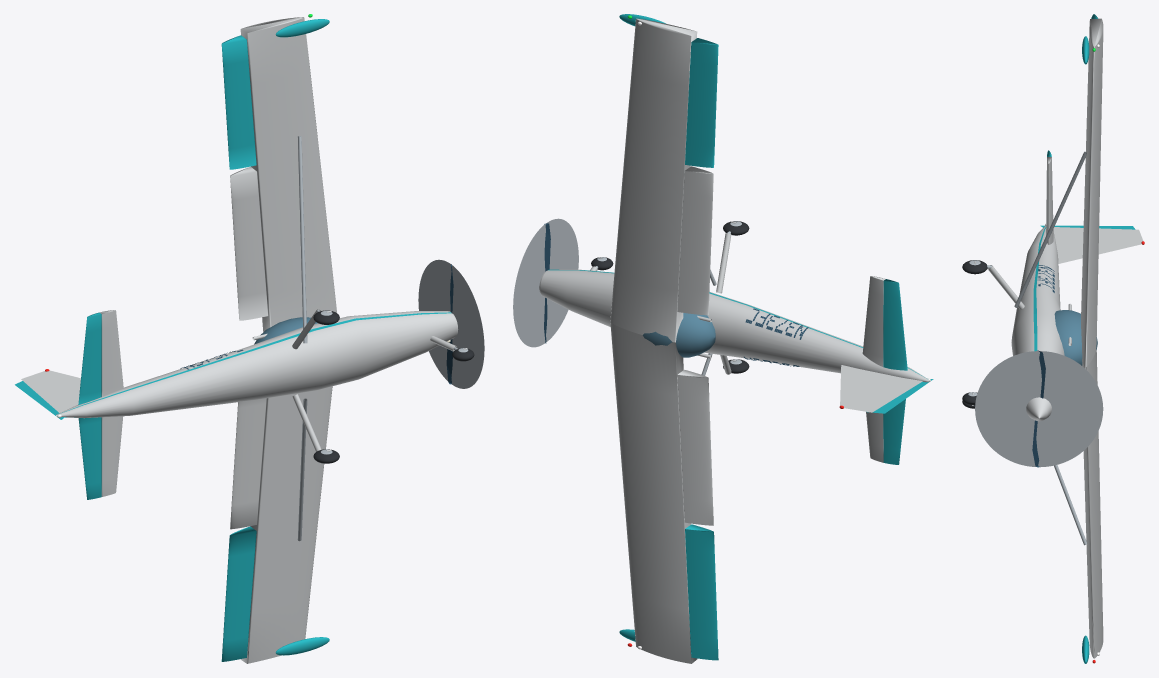
Rendered from exterior.glb.
3 views of the same model, side by side, from view 1: azimuth 30°, elevation 25°; view 2: azimuth 150°, elevation 25°; view 3: azimuth 270°, elevation 25° (orthographic). The views are drawn at different scales.
Visible parts, largest first — view 1: airframe, wing_right, wing_left, prop_blur, flaps_right, flaps_left, aileron_right, aileron_left, elevator_right, stabilizer_right, elevator_left, vertical_stabilizer (+1 smaller); view 2: wing_right, wing_left, airframe, prop_blur, flaps_left, flaps_right, aileron_left, aileron_right, vertical_stabilizer, elevator_right, canopy, stabilizer_right (+2 smaller); view 3: prop_blur, airframe, wing_right, wing_left, vertical_stabilizer, canopy, stabilizer_right, spinner, propeller, wheel_1.
Boxes of the visible parts, x1,y1,x2,y2 form: airframe: (56,136,457,541); wing_right: (240,17,336,331); wing_left: (240,386,332,663); prop_blur: (418,259,484,388); flaps_right: (230,167,268,320); flaps_left: (230,398,266,529); aileron_right: (221,35,256,169); aileron_left: (221,526,256,661); elevator_right: (78,312,101,404); stabilizer_right: (99,310,123,396); elevator_left: (78,417,101,499); vertical_stabilizer: (21,370,80,412); wing_right: (610,18,697,342); wing_left: (610,322,697,663); airframe: (540,233,929,382); prop_blur: (513,218,578,347); flaps_left: (677,369,713,525); flaps_right: (677,166,713,315); aileron_left: (685,524,718,660); aileron_right: (685,38,718,167); vertical_stabilizer: (840,365,922,412); elevator_right: (883,279,907,370); canopy: (643,313,715,357); stabilizer_right: (862,276,885,366); prop_blur: (975,351,1103,467); airframe: (987,151,1086,545); wing_right: (1081,18,1103,366); wing_left: (1082,350,1103,658); vertical_stabilizer: (1053,227,1143,263); canopy: (1054,310,1097,365); stabilizer_right: (1046,157,1053,244); spinner: (1026,397,1051,421); propeller: (1032,350,1045,467); wheel_1: (962,260,987,274).
Bounding box in the file's own units: 6.81 × 10.05 × 2.7.
